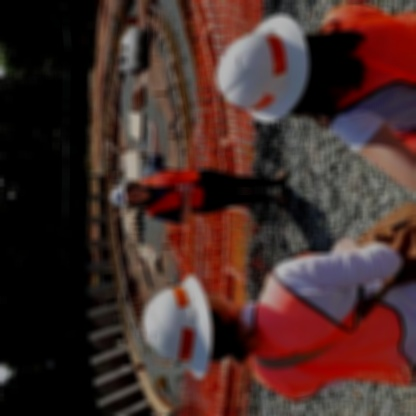vest: (247, 246, 415, 406), (318, 4, 415, 155), (138, 163, 208, 230)
white: (214, 9, 312, 125), (140, 270, 216, 381), (107, 177, 131, 216)
